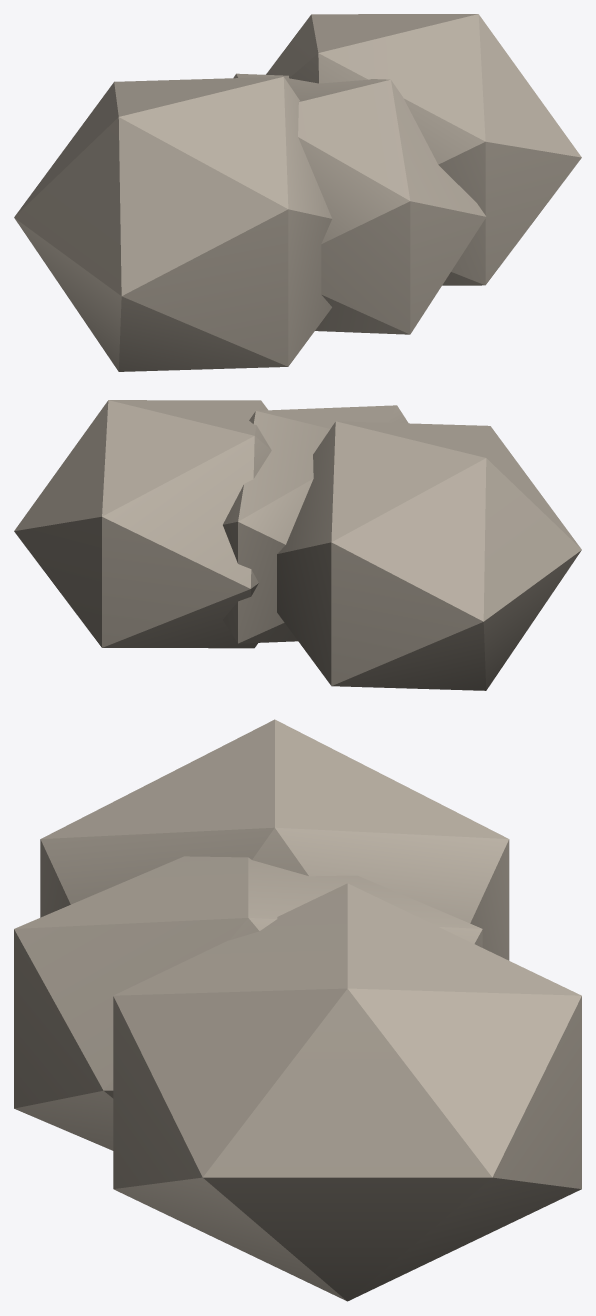
The model's file is rock-outcrop-1.glb.
3 views of the same model, one above another, from view 1: azimuth 30°, elevation 25°; view 2: azimuth 150°, elevation 25°; view 3: azimuth 270°, elevation 25° (orthographic). The views are drawn at different scales.
Parts seen in each view (by area): view 1: rock-outcrop-1; view 2: rock-outcrop-1; view 3: rock-outcrop-1.
Part boxes in pixels (x1,y1,x2,y2): rock-outcrop-1: [14, 14, 581, 371]; rock-outcrop-1: [14, 400, 581, 690]; rock-outcrop-1: [14, 719, 581, 1301].
Bounding box in the file's own units: 4 × 2 × 3.
